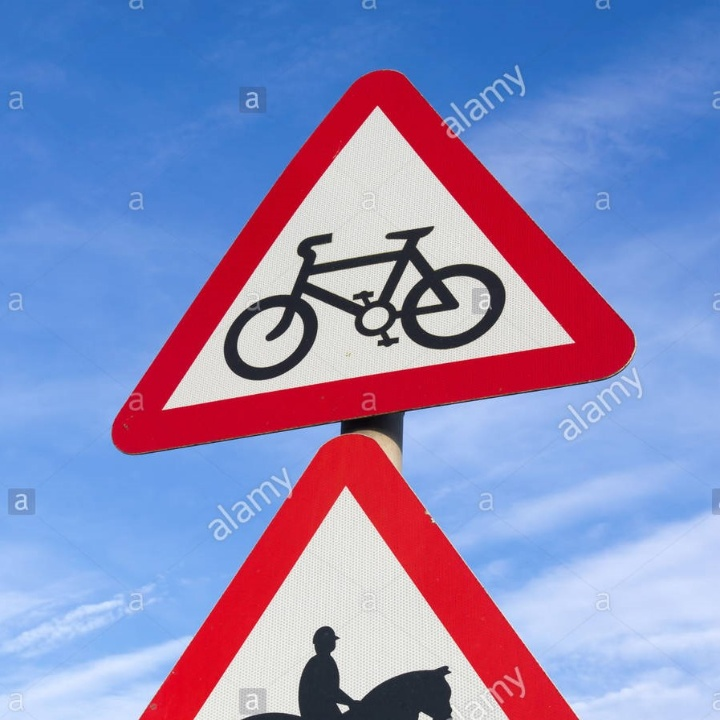bicycle: (117, 74, 634, 436)
